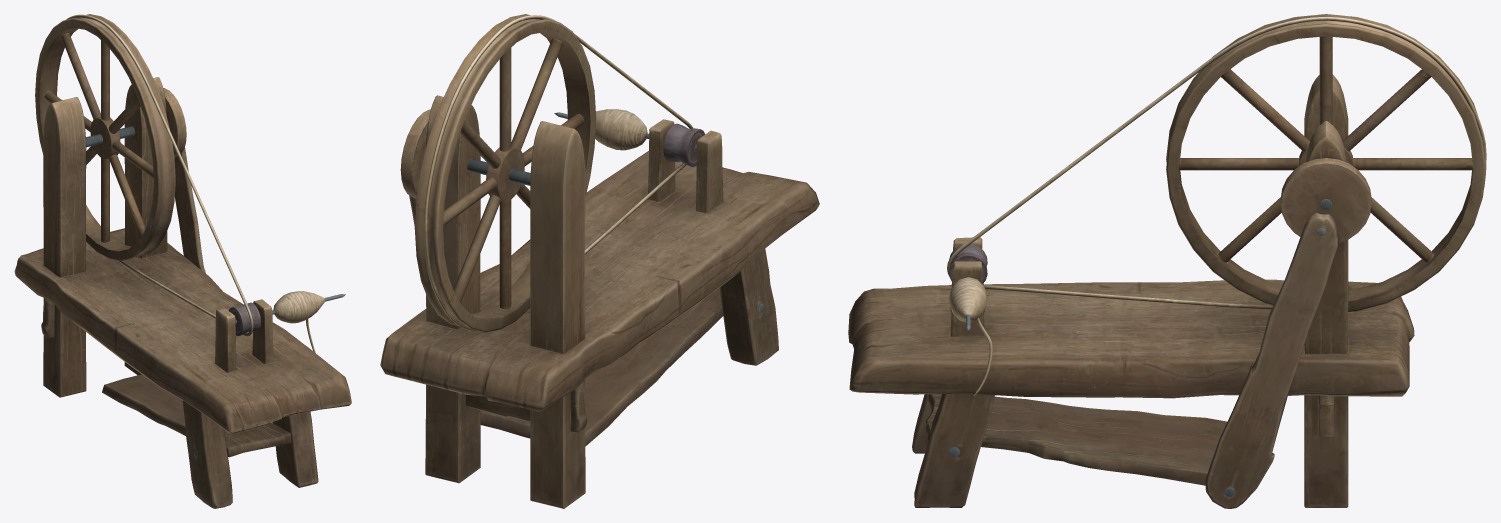
3 views of the same model, side by side, from view 1: azimuth 30°, elevation 25°; view 2: azimuth 150°, elevation 25°; view 3: azimuth 270°, elevation 25° (orthographic). The views are drawn at different scales.
Visible parts, largest first — view 1: SM_Spining_wheel_01_LOD0; view 2: SM_Spining_wheel_01_LOD0; view 3: SM_Spining_wheel_01_LOD0.
Boxes of the visible parts, x1,y1,x2,y2 form: SM_Spining_wheel_01_LOD0: [14, 14, 351, 508]; SM_Spining_wheel_01_LOD0: [380, 14, 819, 508]; SM_Spining_wheel_01_LOD0: [848, 14, 1486, 508].
Size of the model in its own units: 0.748 by 1.54 by 1.94.
1 material, 1 textured.
